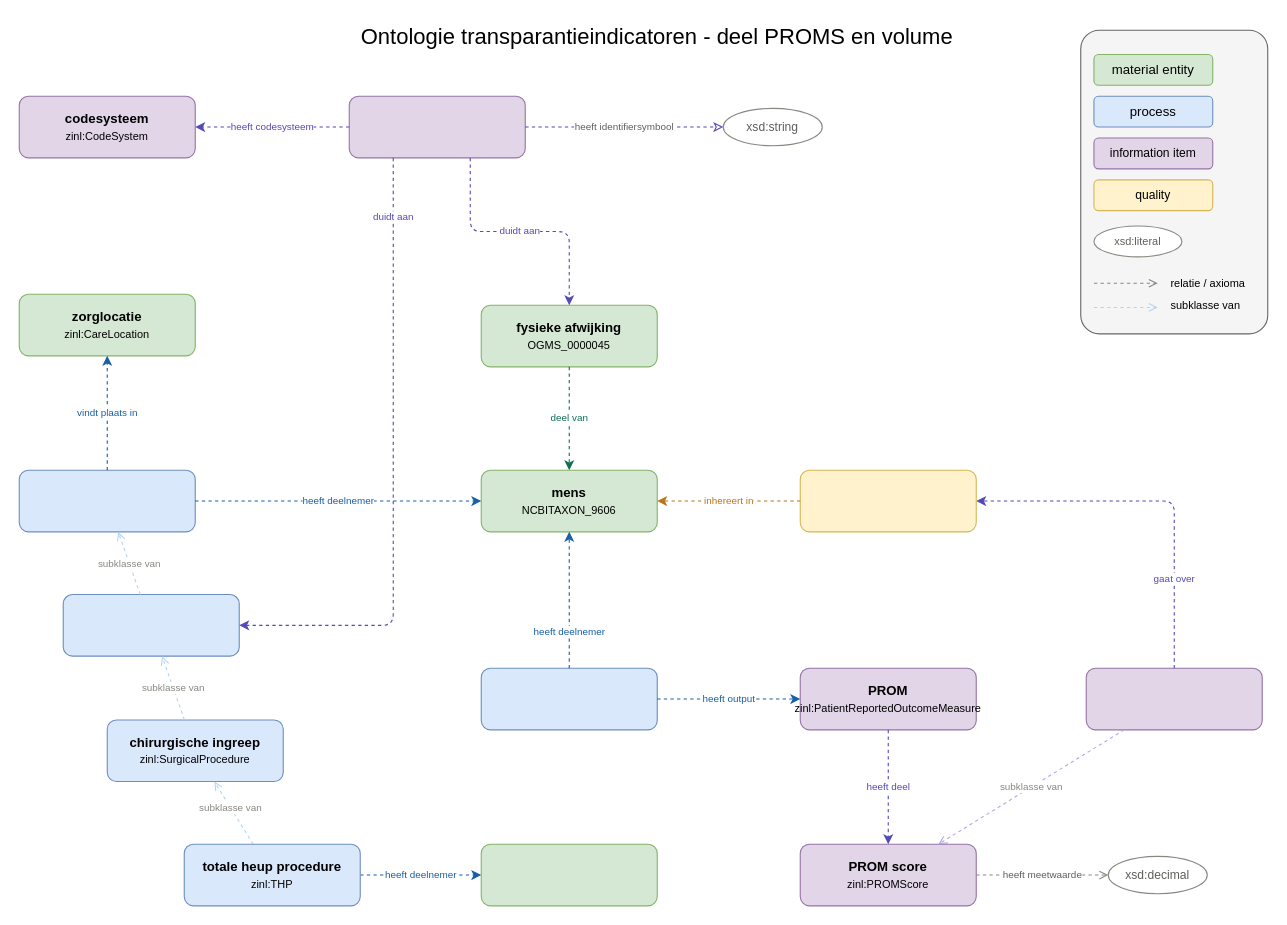
The diagram is 1287 pixels wide and 925 high, and some of its shapes have lost their labels. Here are the shapes that lost their labels. From the top down, the centre of each, then its label:
pixel 436 126: centraal reg. id. IAO_0000578
pixel 106 500: zorgproces OGMS_0000096
pixel 887 500: kwaliteit van leven zinl:QualityOfLife
pixel 150 624: behandeling OGMS_0000090
pixel 568 698: PROM afname zinl:PROMAdministration
pixel 1173 698: EQ-5D score zinl:EQ5DScore
pixel 568 874: prothese zinl:prosthesis
